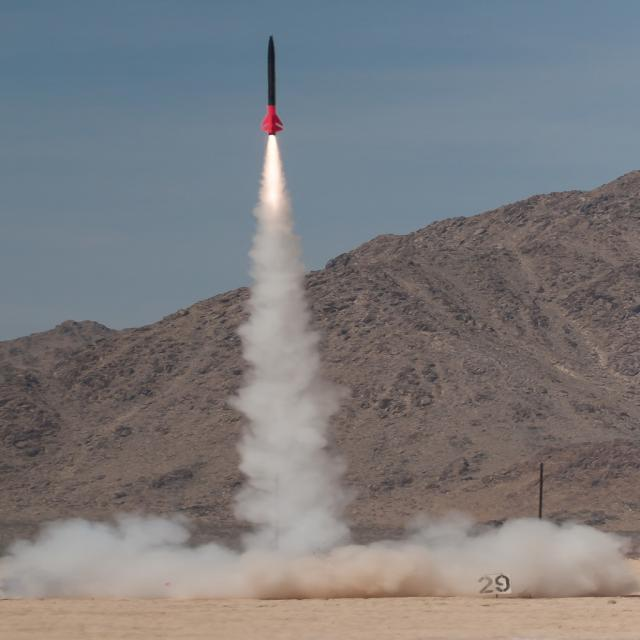missile: (259, 34, 287, 135)
